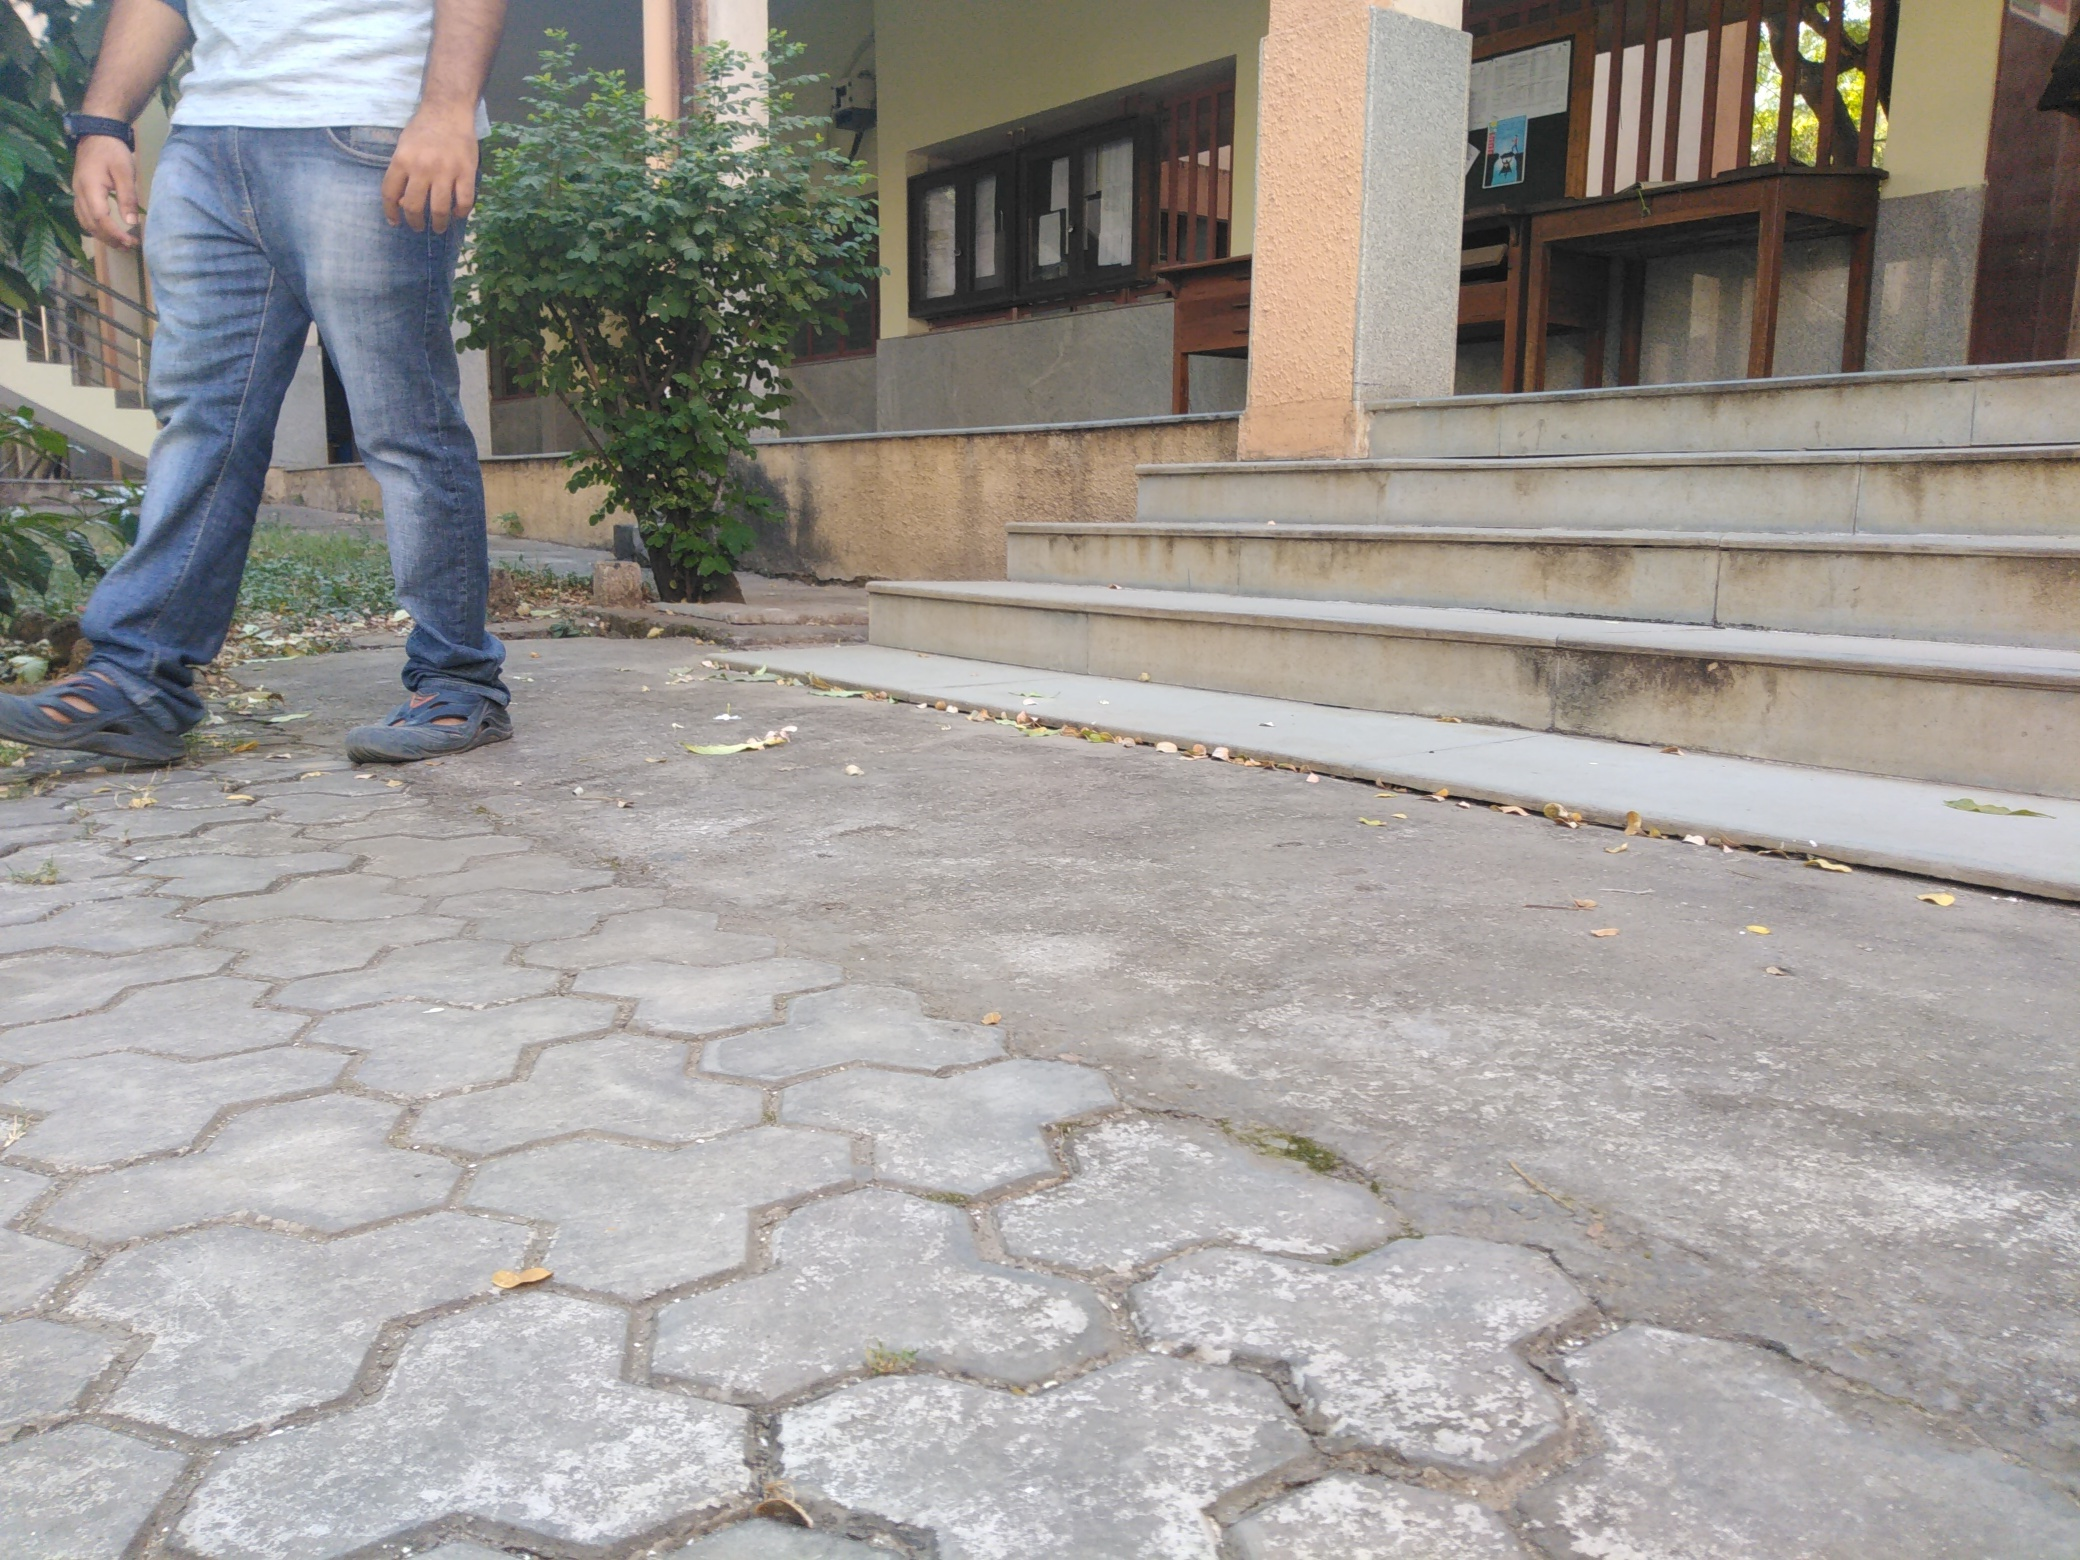stairs_up: (853, 347, 2078, 755)
